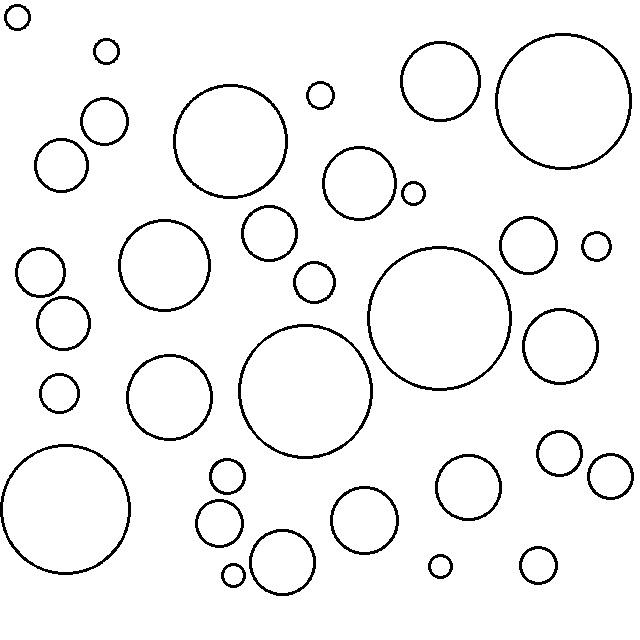circle: (366, 241, 515, 396), (494, 28, 635, 173), (236, 320, 376, 462), (2, 441, 135, 580), (169, 79, 291, 204), (117, 215, 214, 316), (125, 350, 218, 446), (399, 37, 485, 127), (520, 306, 604, 388), (319, 143, 401, 224), (327, 482, 402, 557), (246, 524, 320, 599), (431, 450, 507, 523), (497, 213, 562, 278), (239, 202, 303, 266), (30, 134, 93, 196), (34, 294, 95, 356), (13, 244, 69, 302), (76, 93, 133, 148), (585, 446, 638, 503), (194, 496, 248, 550), (533, 427, 587, 479), (35, 367, 85, 422), (290, 257, 341, 308), (515, 540, 564, 590), (207, 457, 249, 498), (580, 225, 616, 267), (304, 76, 338, 113), (2, 0, 35, 35), (90, 34, 122, 69), (425, 547, 457, 582), (216, 559, 250, 591), (399, 178, 430, 208)
